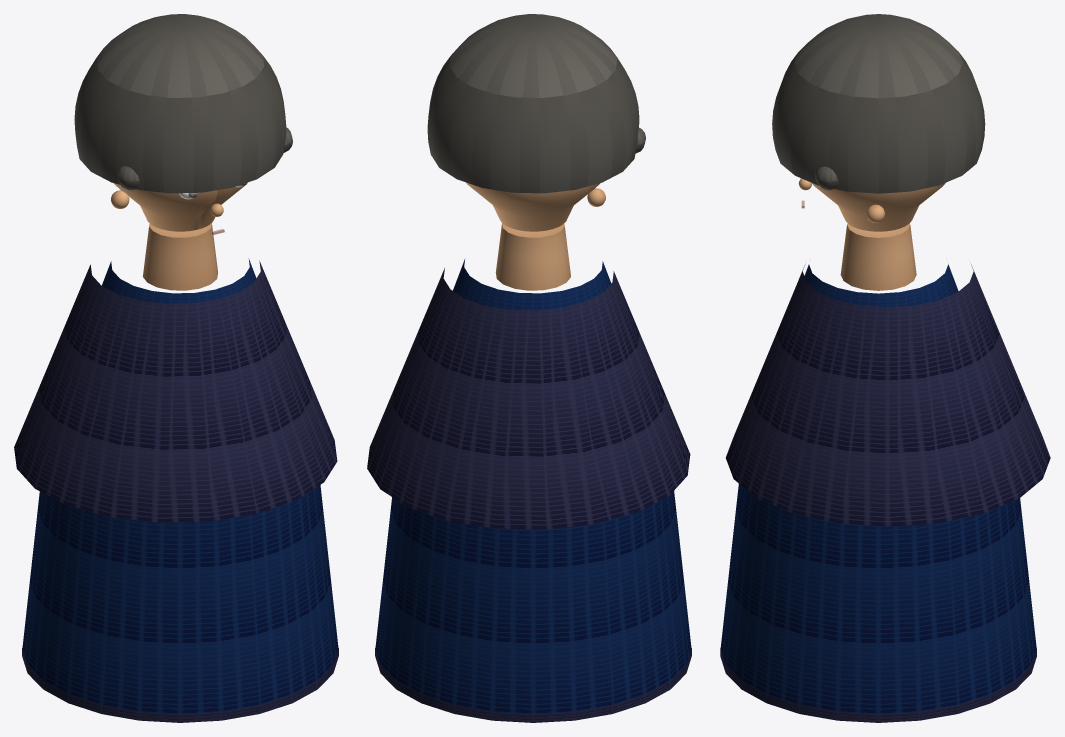
Rendered from mary_bethany.glb.
The picture shows the model from 3 angles, left to right: view 1: azimuth 30°, elevation 25°; view 2: azimuth 150°, elevation 25°; view 3: azimuth 270°, elevation 25°; orthographic projection.
Visible parts, largest first — view 1: Character_mary_of_bethany, head; view 2: Character_mary_of_bethany, head; view 3: Character_mary_of_bethany, head.
Boxes of the visible parts, x1=… form: Character_mary_of_bethany: x1=14, y1=14, x2=338, y2=722; head: x1=113, y1=182, x2=247, y2=231; Character_mary_of_bethany: x1=367, y1=14, x2=691, y2=722; head: x1=466, y1=182, x2=600, y2=231; Character_mary_of_bethany: x1=720, y1=14, x2=1050, y2=722; head: x1=811, y1=182, x2=945, y2=231.
Size of the model in its own units: 0.8383 by 1.8 by 0.8522.
Materials: 9 (5 with a texture image).
